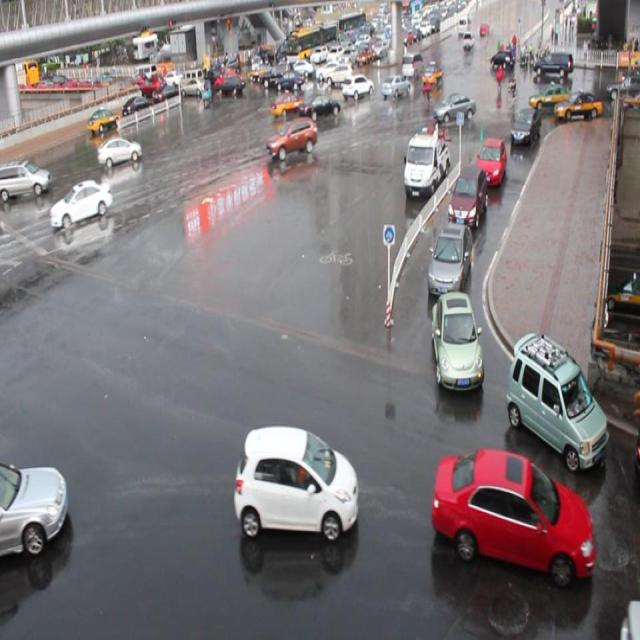bus: (402, 128, 448, 198)
car: (431, 447, 594, 582), (503, 327, 609, 472), (234, 425, 358, 540), (1, 460, 67, 557), (431, 287, 484, 387), (427, 221, 472, 295), (50, 180, 114, 230), (447, 164, 486, 228), (267, 117, 316, 158), (97, 135, 143, 167), (476, 135, 505, 183), (433, 91, 475, 122), (510, 106, 539, 146), (300, 92, 340, 120), (271, 89, 304, 115), (342, 74, 374, 98)
truck: (1, 159, 51, 195)
